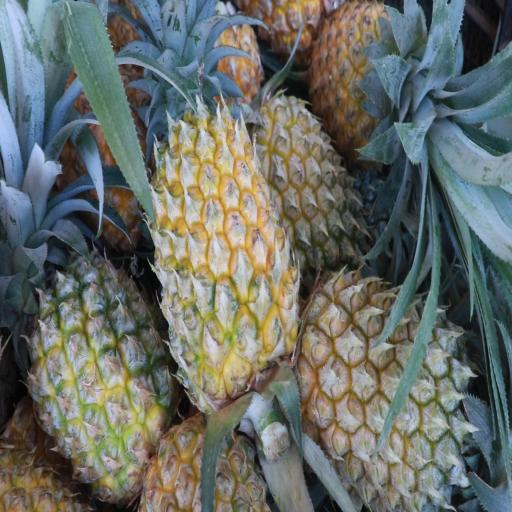Pineapple - v8 v1: (151, 107, 300, 403), (27, 256, 167, 490), (312, 2, 407, 134)
